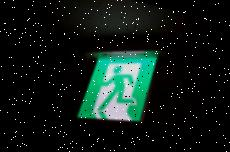emergency_exit: (76, 49, 160, 126)
